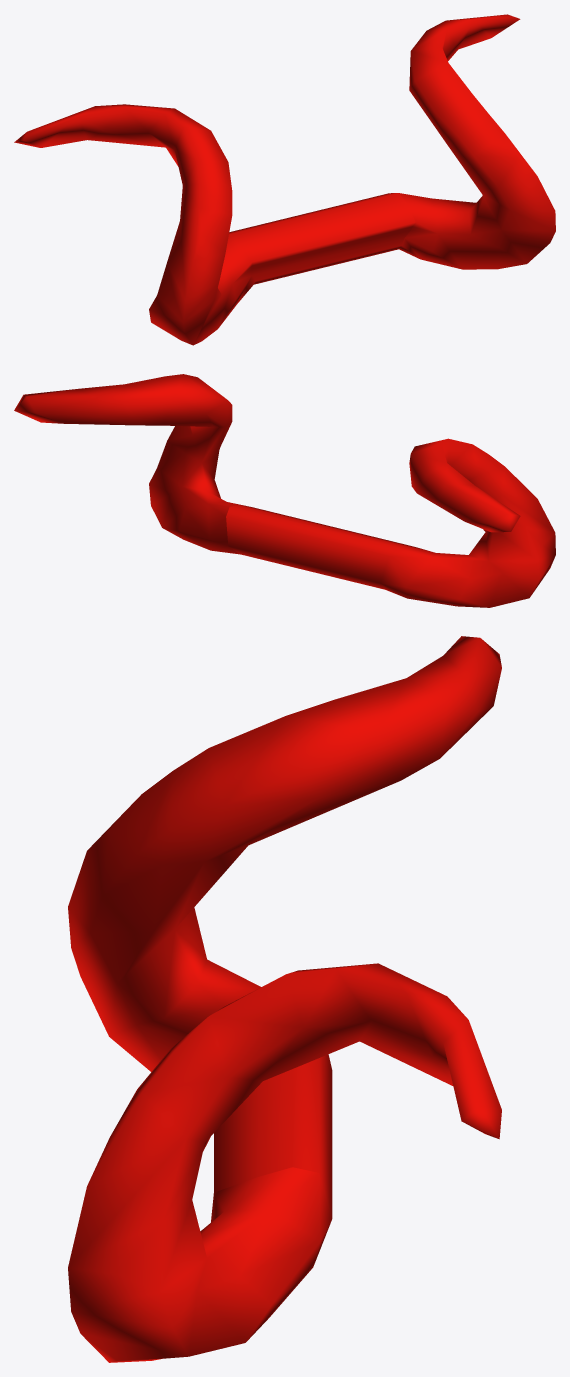
File: ŞEYTAN BOYNUZU DÜZENLENMİŞ.fbx
3 renders of one model, top to bottom at view 1: azimuth 30°, elevation 25°; view 2: azimuth 150°, elevation 25°; view 3: azimuth 270°, elevation 25°, orthographic. The views are drawn at different scales.
Visible parts, largest first — view 1: devil.001; view 2: devil.001; view 3: devil.001.
Part boxes in pixels (x1,y1,x2,y2): devil.001: [14, 14, 555, 345]; devil.001: [14, 374, 555, 607]; devil.001: [68, 636, 501, 1362].
Bounding box in the file's own units: 302 × 111 × 114.
